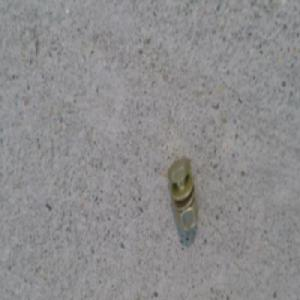BoltNutSet: (168, 156, 199, 231)
